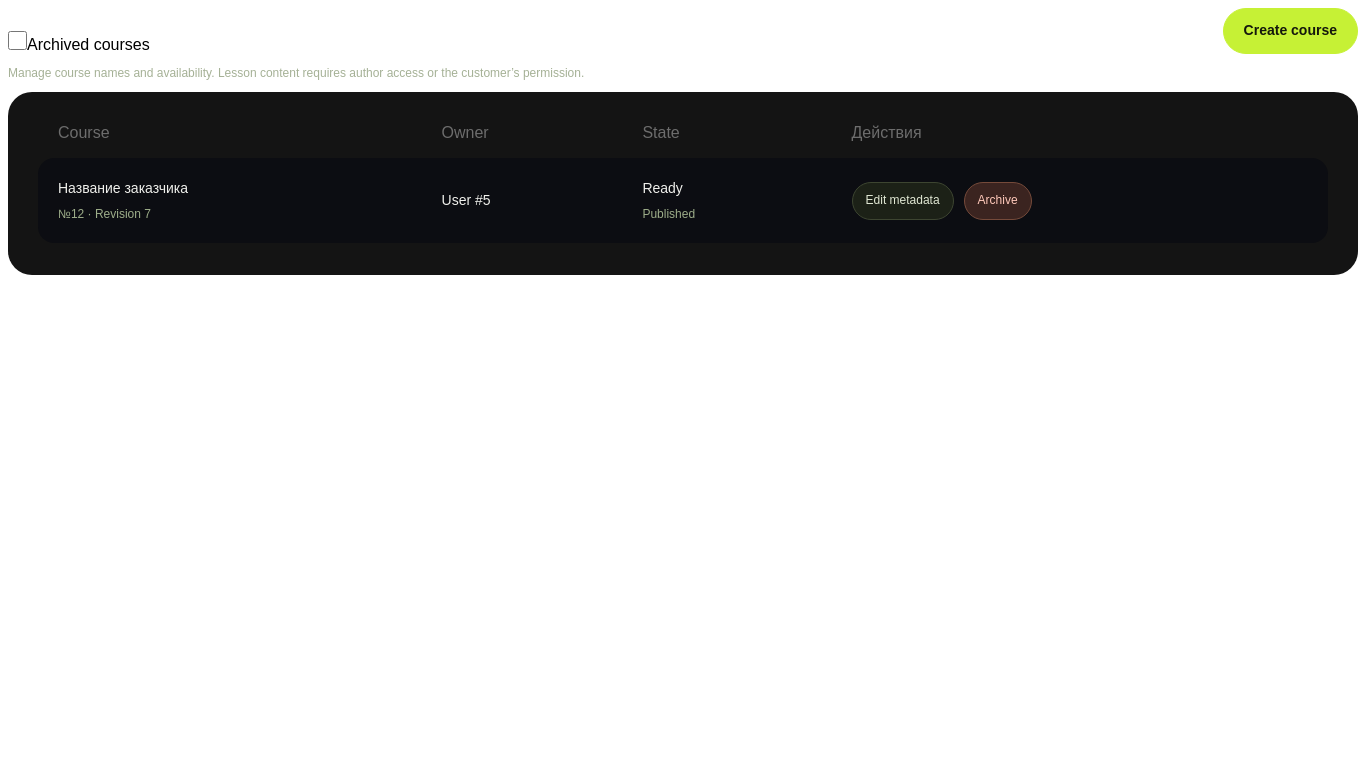
translates management controls while preserving the customer’s course text
Expected: the text "Название заказчика" is shown, [58, 180, 188, 196]
Click the button "Edit metadata": (902, 200) [852, 182, 954, 220]
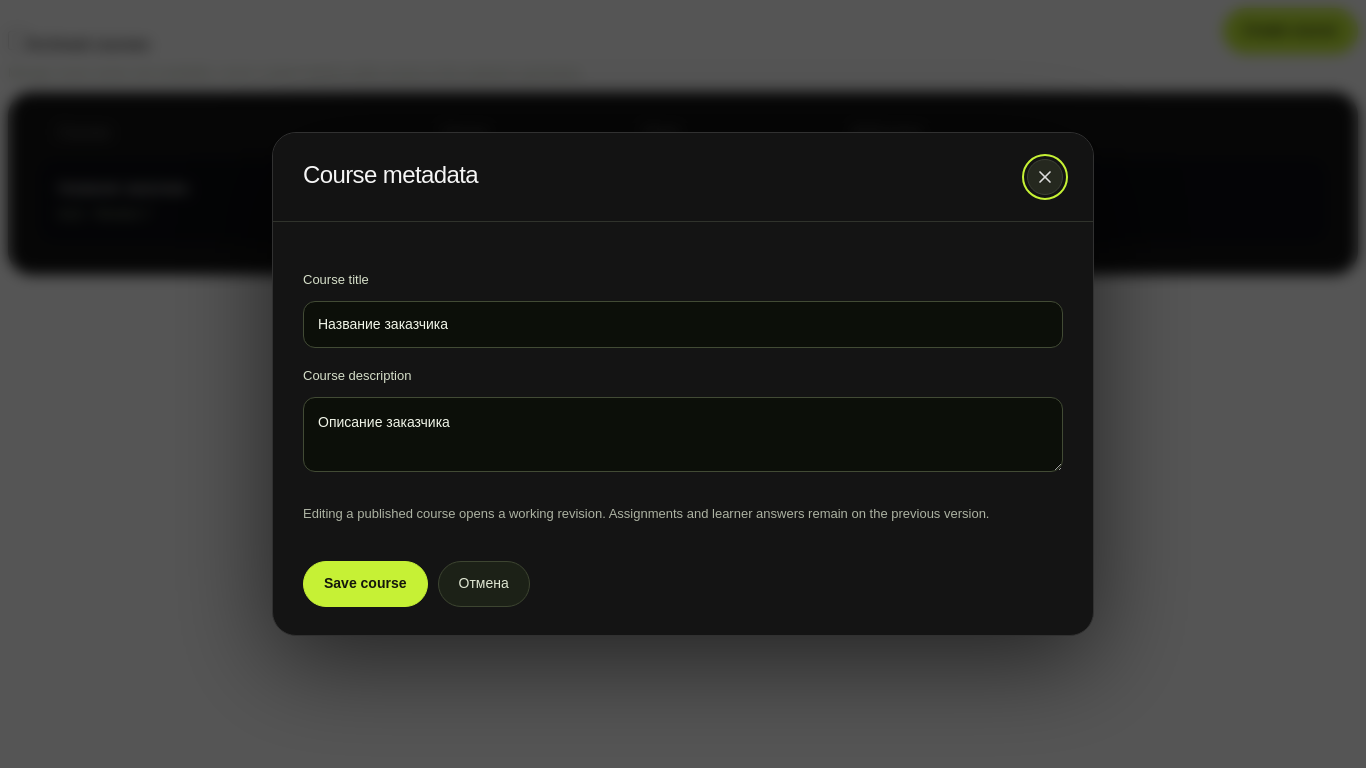
Expected: the button "Archive" is shown, [964, 182, 1032, 220]
Expected: the text box labelled "Course description" holds "Описание заказчика", [303, 397, 1063, 472]
Expected: the button "Save course" is shown, [303, 561, 428, 607]
